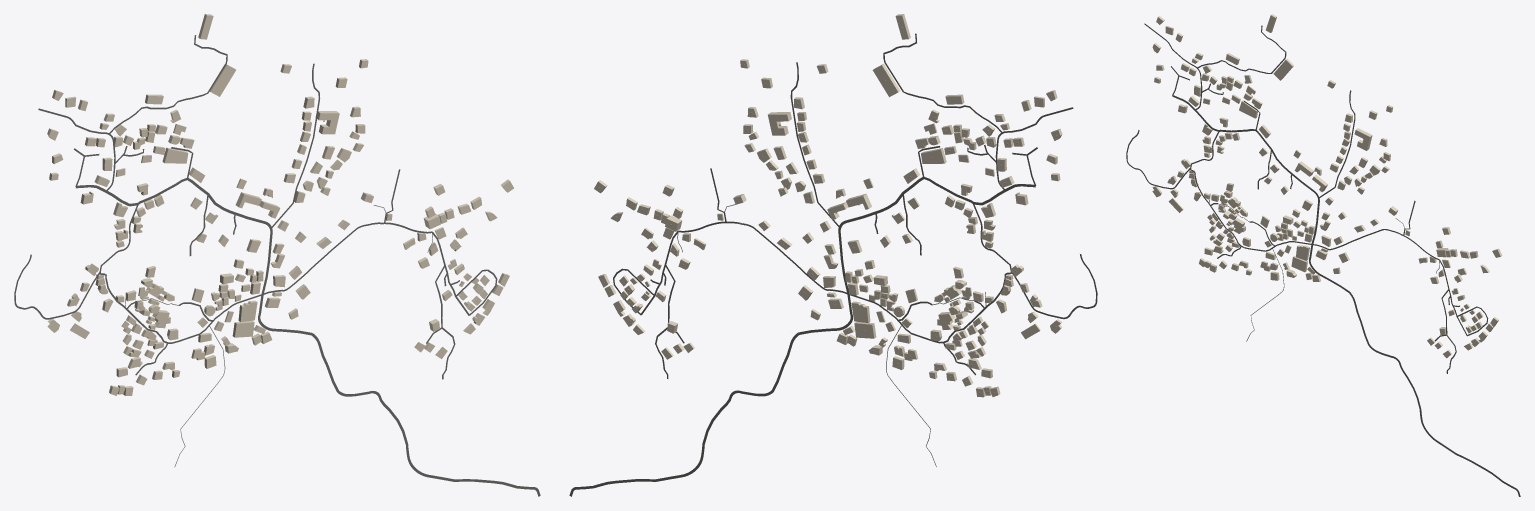
File: historic-palestine-09_28_3508_3227.glb
3 renders of one model, left to right at view 1: azimuth 30°, elevation 25°; view 2: azimuth 150°, elevation 25°; view 3: azimuth 330°, elevation 25°, orthographic. The views are drawn at different scales.
Visible parts, largest first — view 1: Road Sheikh Isa al-Burqaqi; view 2: Road Sheikh Isa al-Burqaqi; view 3: Road Sheikh Isa al-Burqaqi.
Boxes of the visible parts, x1,y1,x2,y2 form: Road Sheikh Isa al-Burqaqi: (76,178,540,496); Road Sheikh Isa al-Burqaqi: (569,176,1035,496); Road Sheikh Isa al-Burqaqi: (1172,95,1520,496).
Size of the model in its own units: 1093 by 1116 by 19.59.
